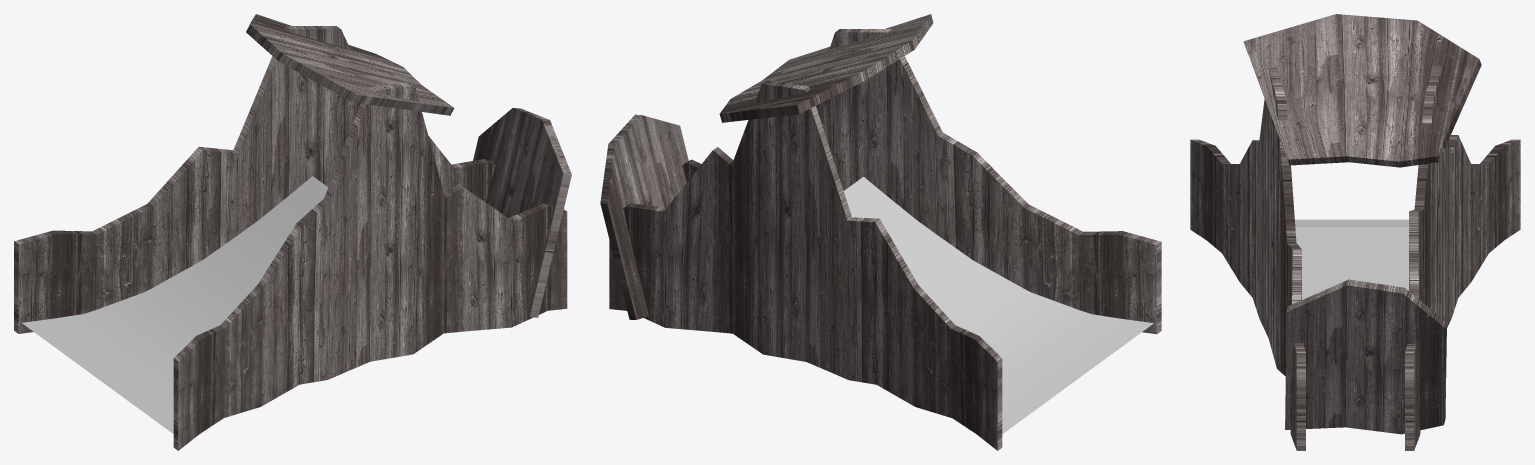
Rendered from ObsPopUpR01.FBX.
3 renders of one model, left to right at view 1: azimuth 30°, elevation 25°; view 2: azimuth 150°, elevation 25°; view 3: azimuth 270°, elevation 25°, orthographic.
Visible parts, largest first — view 1: PopUp05, PopUp03, PopUp01, PopUp04, PopUp007; view 2: PopUp03, PopUp05, PopUp01, PopUp04, PopUp007; view 3: PopUp007, PopUp04, PopUp05, PopUp03, PopUp06, PopUp01.
Boxes of the visible parts, box(x1,y1,x2,y2) form: PopUp05: box(173, 82, 567, 450); PopUp03: box(14, 26, 495, 333); PopUp01: box(22, 176, 328, 433); PopUp04: box(473, 108, 571, 317); PopUp007: box(246, 14, 454, 115); PopUp03: box(609, 80, 1002, 450); PopUp05: box(682, 29, 1161, 334); PopUp01: box(843, 177, 1153, 433); PopUp04: box(600, 114, 688, 319); PopUp007: box(719, 14, 933, 122); PopUp007: box(1243, 14, 1481, 167); PopUp04: box(1285, 279, 1446, 434); PopUp05: box(1190, 67, 1305, 450); PopUp03: box(1405, 65, 1520, 450); PopUp06: box(1295, 227, 1408, 299); PopUp01: box(1295, 219, 1408, 226).
Bounding box in the file's own units: 6.71 × 4.39 × 4.25.
